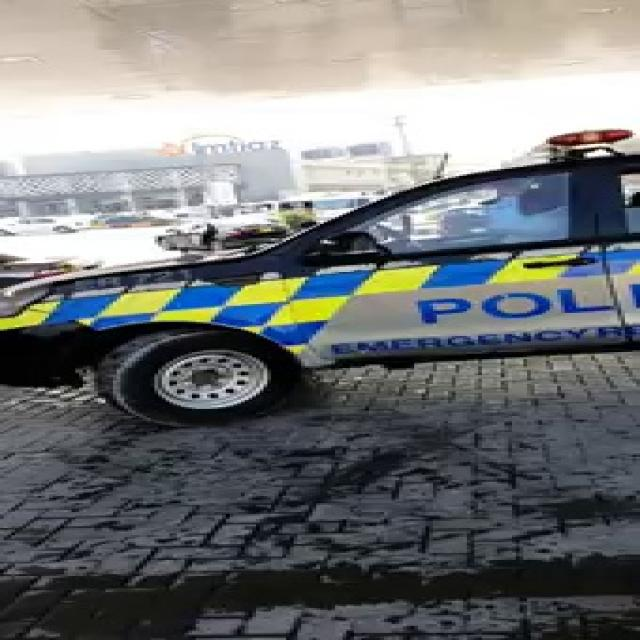police: (14, 144, 640, 424)
